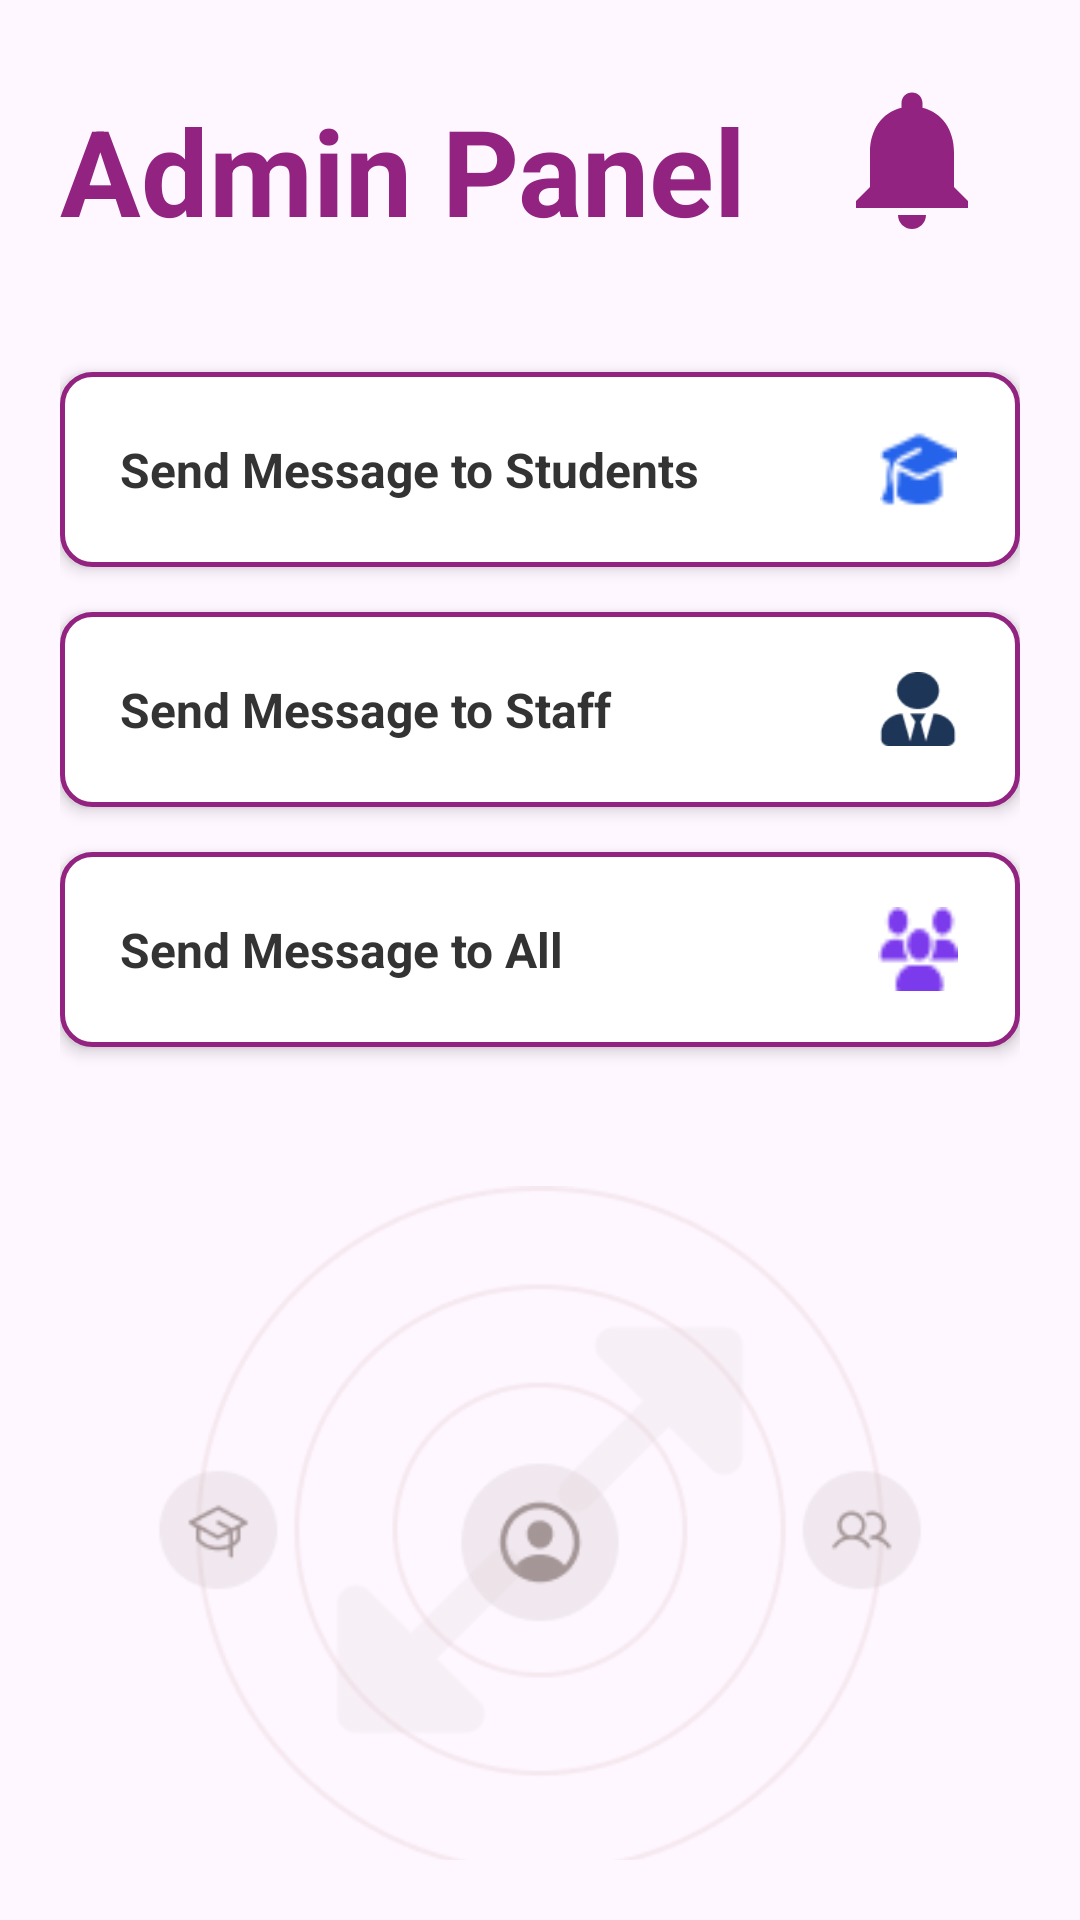

Icon bounding boxes for this 1080w x 1920h phone screenshot, format (x1, y1, x2, y2):
All Users Icon: (878, 907, 958, 991)
Notifications: (856, 92, 968, 229)
